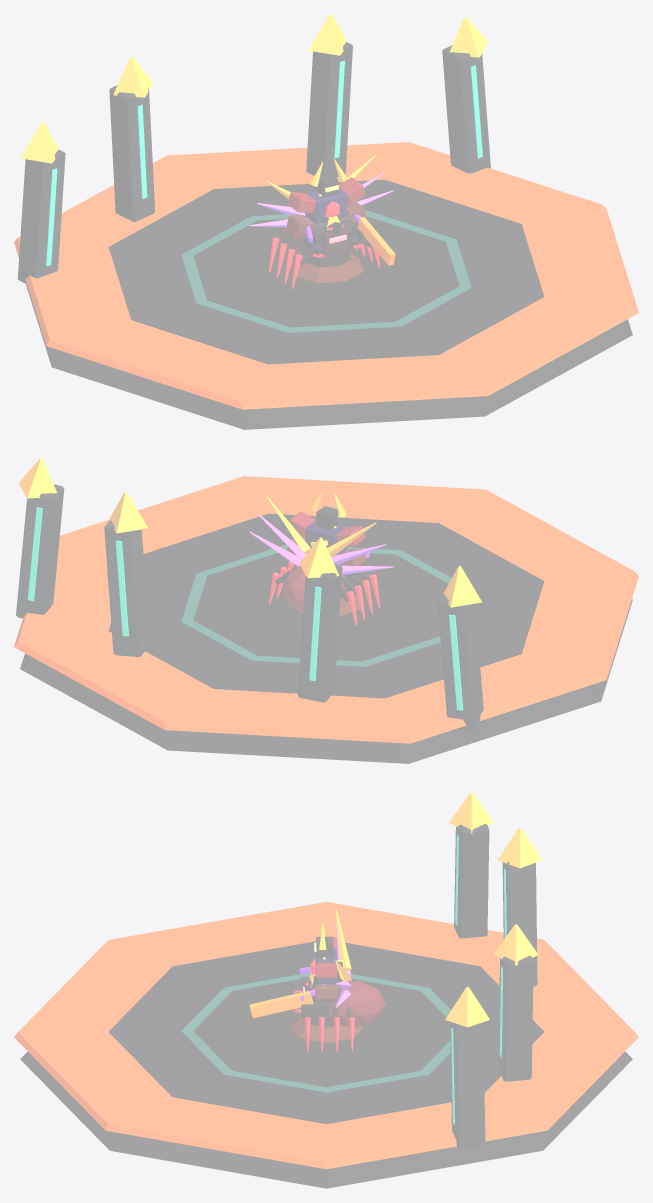
The model's file is xianxia_arena.glb.
3 views of the same model, one above another, from view 1: azimuth 30°, elevation 25°; view 2: azimuth 150°, elevation 25°; view 3: azimuth 270°, elevation 25° (orthographic). The views are drawn at different scales.
Visible parts, largest first — view 1: Arena_Platform, Boss_FallenImmortal, Boss_SpiderQueen, Enemy_IronGolem; view 2: Arena_Platform, Boss_FallenImmortal, Boss_SpiderQueen; view 3: Arena_Platform, Boss_FallenImmortal, Boss_SpiderQueen, Enemy_IronGolem.
Boxes of the visible parts, x1,y1,x2,y2 form: Arena_Platform: (14,14,638,429); Boss_FallenImmortal: (249,154,393,282); Boss_SpiderQueen: (269,216,380,288); Enemy_IronGolem: (286,201,395,265); Arena_Platform: (14,458,638,763); Boss_FallenImmortal: (249,490,393,615); Boss_SpiderQueen: (269,561,380,625); Arena_Platform: (14,792,638,1188); Boss_FallenImmortal: (289,909,363,1042); Boss_SpiderQueen: (303,973,385,1051); Enemy_IronGolem: (249,959,340,1019).
Bounding box in the file's own units: 15.5 × 5.1 × 15.5.
